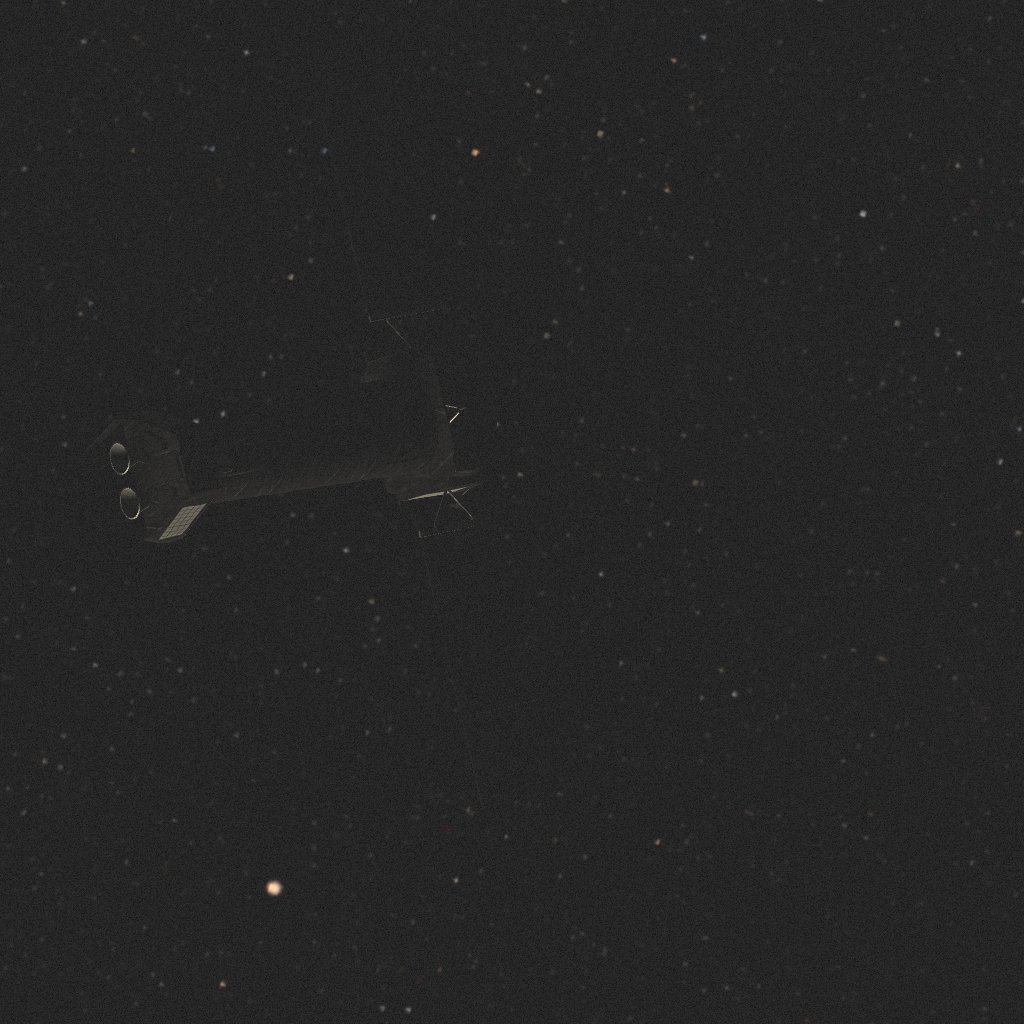xmm_newton: (72, 36, 559, 807)
